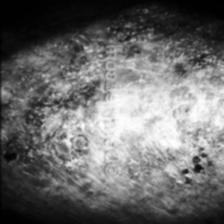Potentially Malignant Skin Tumors: (120, 64, 224, 184), (22, 84, 98, 127), (50, 128, 89, 162), (0, 135, 35, 167), (0, 101, 13, 125)
